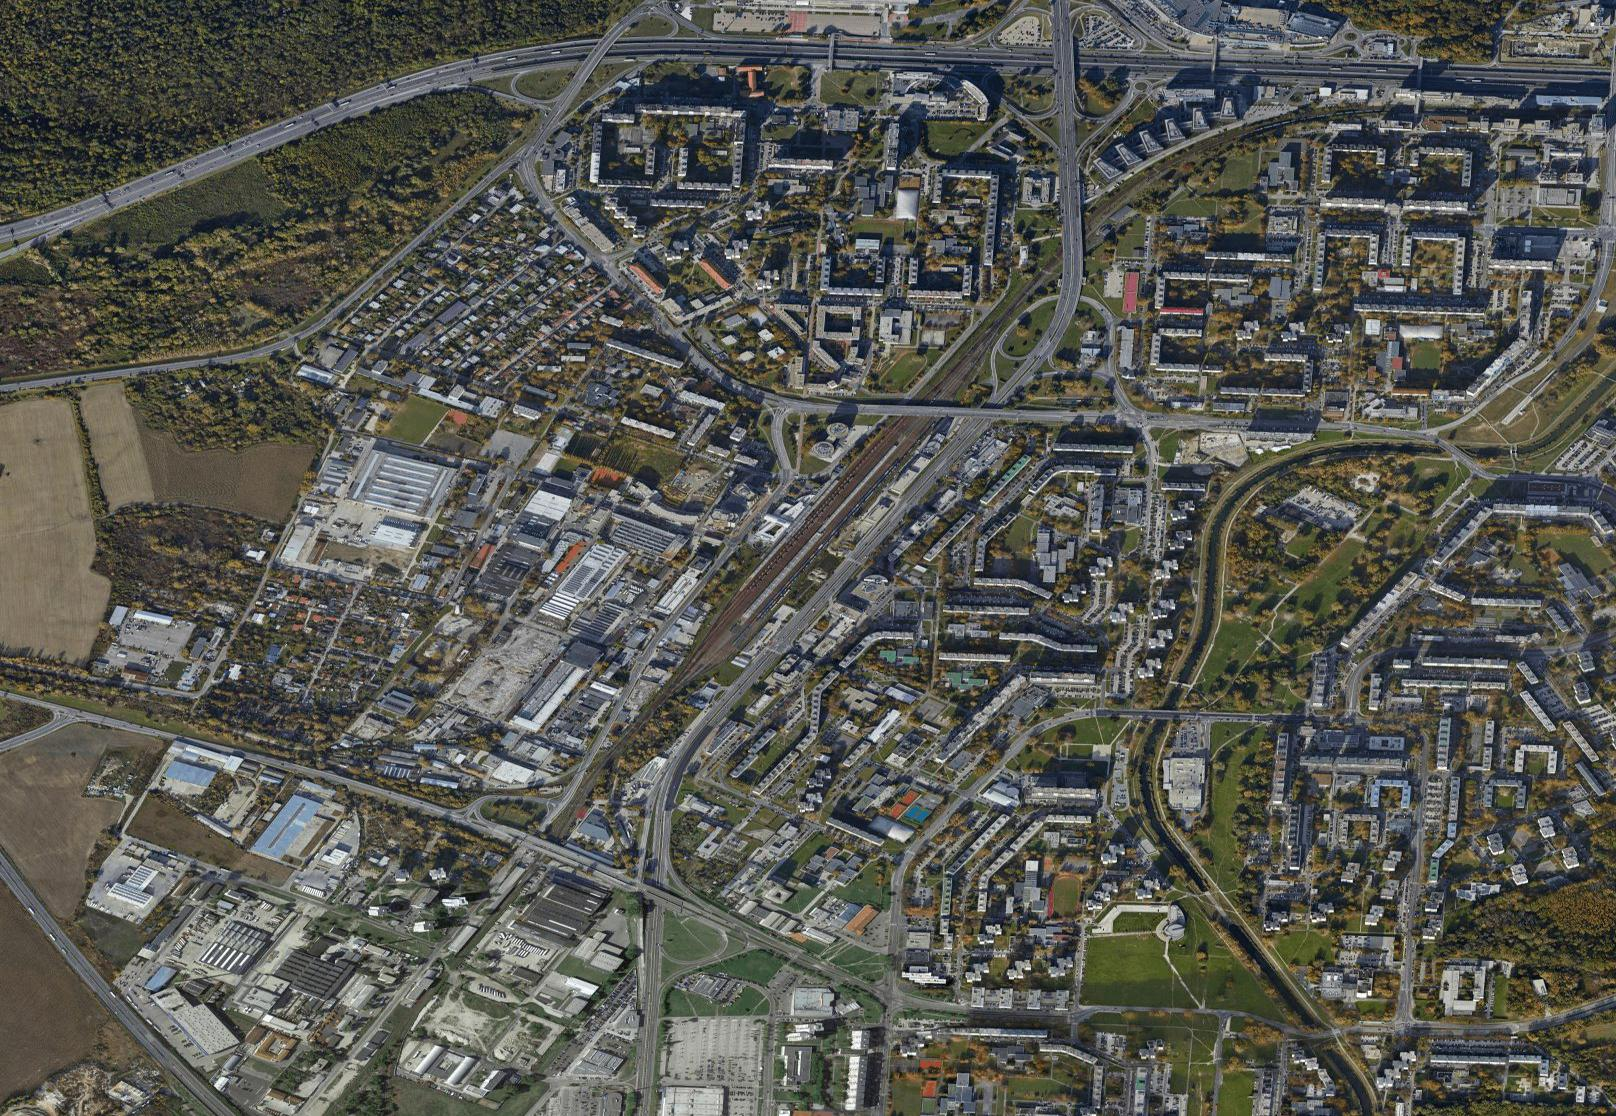bridge: (880, 397, 960, 426)
motorway: (1, 166, 208, 254), (199, 83, 381, 168), (379, 29, 580, 103), (582, 27, 846, 66), (1113, 42, 1377, 81), (846, 34, 1111, 72), (1017, 257, 1089, 376), (1379, 52, 1616, 83), (1054, 128, 1089, 257), (1047, 1, 1083, 129)
train_station: (704, 421, 911, 673)
